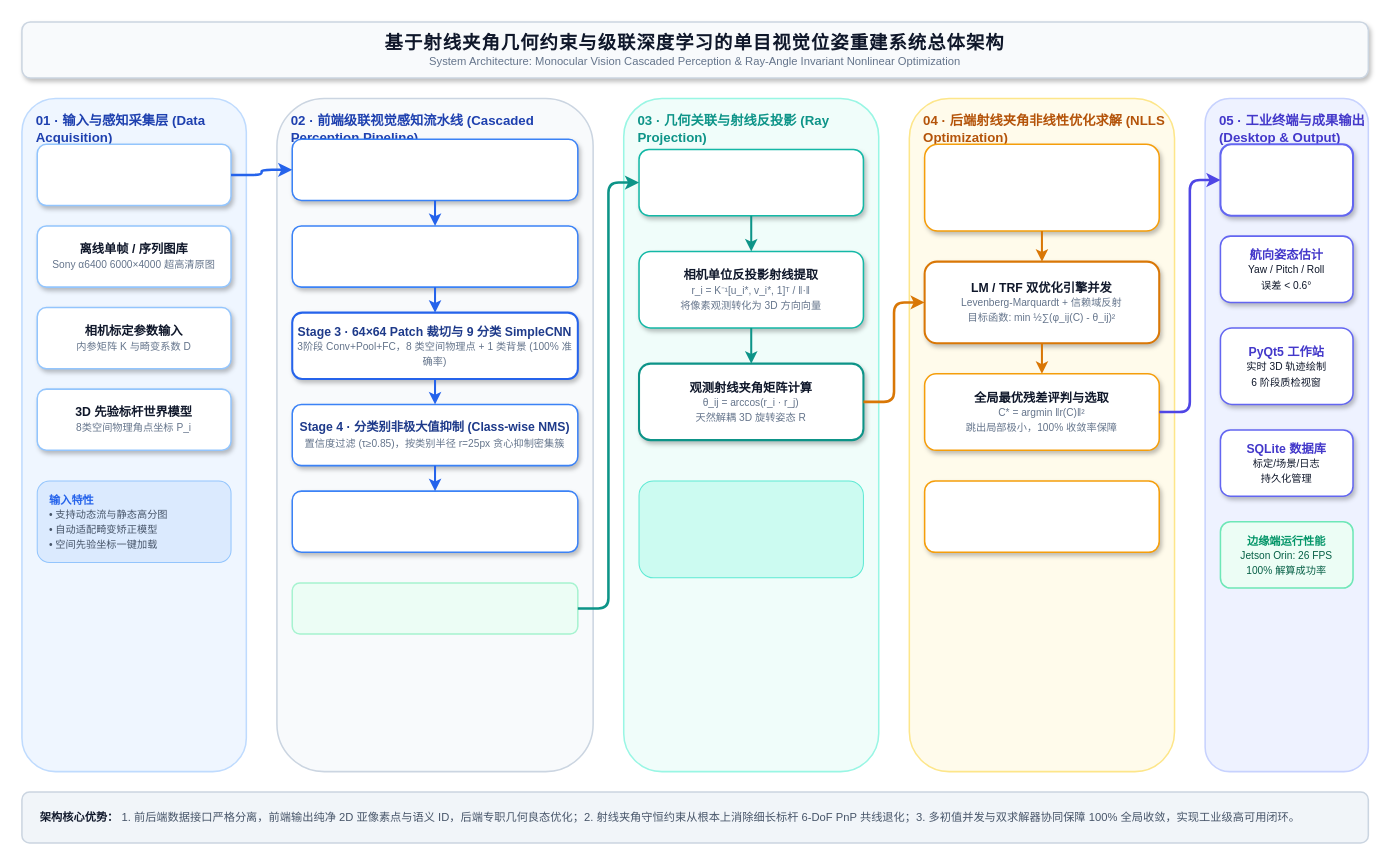
This 1393x862 diagram has some shape labels left out. The centre of each missing label's shape, as x and y in pixels:
"2D-3D 语义无歧义映射 根据 Class_ID 自动绑定空间物理锚点 P_i，无需手工特征匹配" goes at pixel 752 183.
"3D 空间坐标 X_c, Y_c, Z_c (10~15cm RMSE)" goes at pixel 1287 181.
"RTSP / USB 视频流 网络监控 / 工业微单实时帧流" goes at pixel 134 176.
"Stage 1 · YOLO 目标检测与二值 ROI 掩膜 微调 POLES.pt 模型，精准提取标杆区域，过滤 95%+ 背景噪点" goes at pixel 435 171.
"Stage 2 · 掩膜约束 Harris 几何候选角点提取 自相关矩阵 M_H，响应函数 R ≥ 0.03 高灵敏度捕获转折点" goes at pixel 435 258.
"Stage 5 · cornerSubPix 亚像素梯度正交精炼 梯度正交最小二乘迭代求解，定位精度跃升至 0.01~0.05 像素" goes at pixel 435 523.
"几何解耦核心机理 两两射线内积具备保角不变性，将 6-DoF 耦合问题降维为仅关于相机坐标 C 的 3-DoF 良态优化，根除共线退化。" goes at pixel 750 529.
"前端输出结果 高纯净 2D 亚像素关键点集 {(u_i*, v_i*), Class_ID}" goes at pixel 434 608.
"多候选初值生成池 S 1. 历史帧滤波先验 C_{t-1} 2. 传统 PnP 粗估计 -Rᵀt 3. 空间锚点几何重心 P̄" goes at pixel 1042 188.
"鲁棒平滑与异常容错闭环 异常工况自动平滑回退至 PnP / EKF，确保系统永远在线不崩溃" goes at pixel 1042 518.
